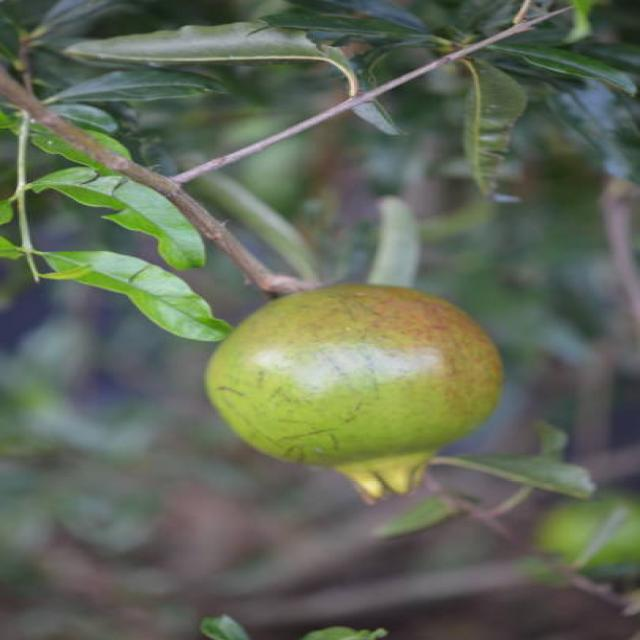Unripe: (208, 280, 510, 505)
